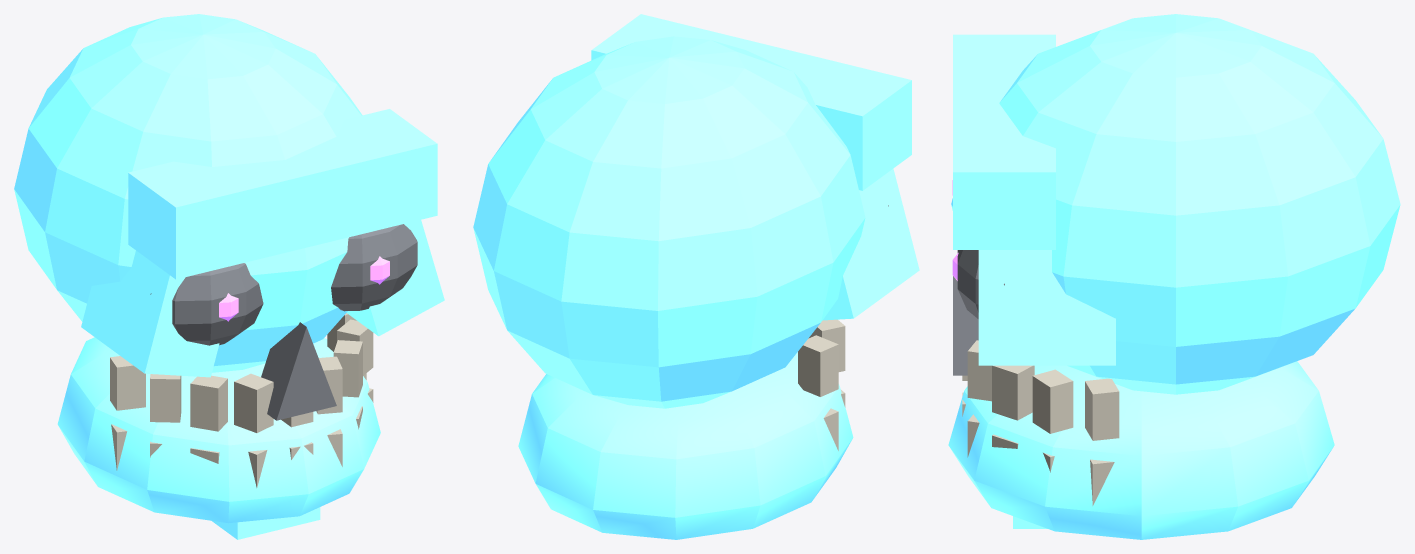
File: pickups-and-collectibles-crystal-skull-f1599875__19938.glb
The picture shows the model from 3 angles, left to right: view 1: azimuth 30°, elevation 25°; view 2: azimuth 150°, elevation 25°; view 3: azimuth 270°, elevation 25°; orthographic projection. The views are drawn at different scales.
Parts seen in each view (by area): view 1: body/gem, body/iron, body/bone, body/arcane; view 2: body/gem, body/bone; view 3: body/gem, body/bone, body/iron.
Part boxes in pixels (box(x1,y1,x2,y2)): body/gem: box(14, 14, 444, 539); body/iron: box(150, 224, 417, 420); body/bone: box(110, 313, 373, 487); body/arcane: box(219, 256, 389, 321); body/gem: box(473, 14, 919, 539); body/bone: box(798, 319, 845, 450); body/gem: box(948, 14, 1400, 539); body/bone: box(962, 340, 1119, 505); body/iron: box(953, 250, 1004, 375).
Size of the model in its own units: 0.23 by 0.3054 by 0.2638.
